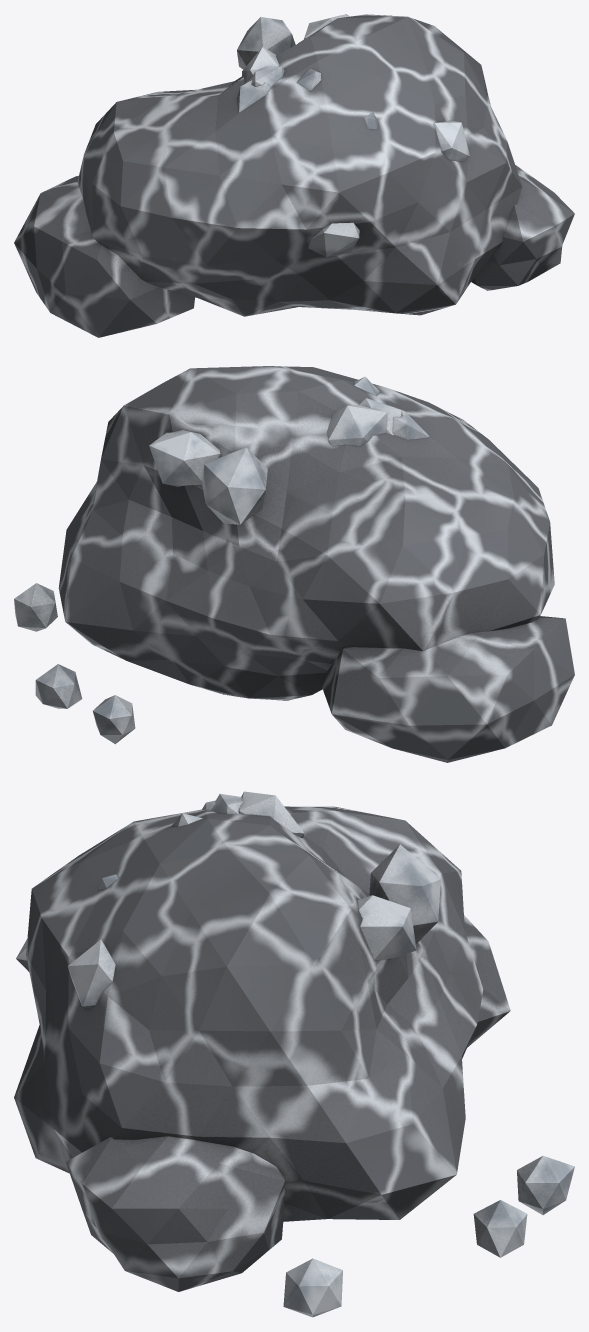
The model's file is mineral_hierro.fbx.
3 renders of one model, top to bottom at view 1: azimuth 30°, elevation 25°; view 2: azimuth 150°, elevation 25°; view 3: azimuth 270°, elevation 25°, orthographic. The views are drawn at different scales.
Visible parts, largest first — view 1: mineral_hierro; view 2: mineral_hierro; view 3: mineral_hierro.
Part boxes in pixels (box(x1,y1,x2,y2)): mineral_hierro: box(14, 14, 574, 337); mineral_hierro: box(14, 366, 574, 762); mineral_hierro: box(14, 791, 574, 1317).
Bounding box in the file's own units: 7.42 × 3.8 × 5.52.
1 material, 1 textured.
